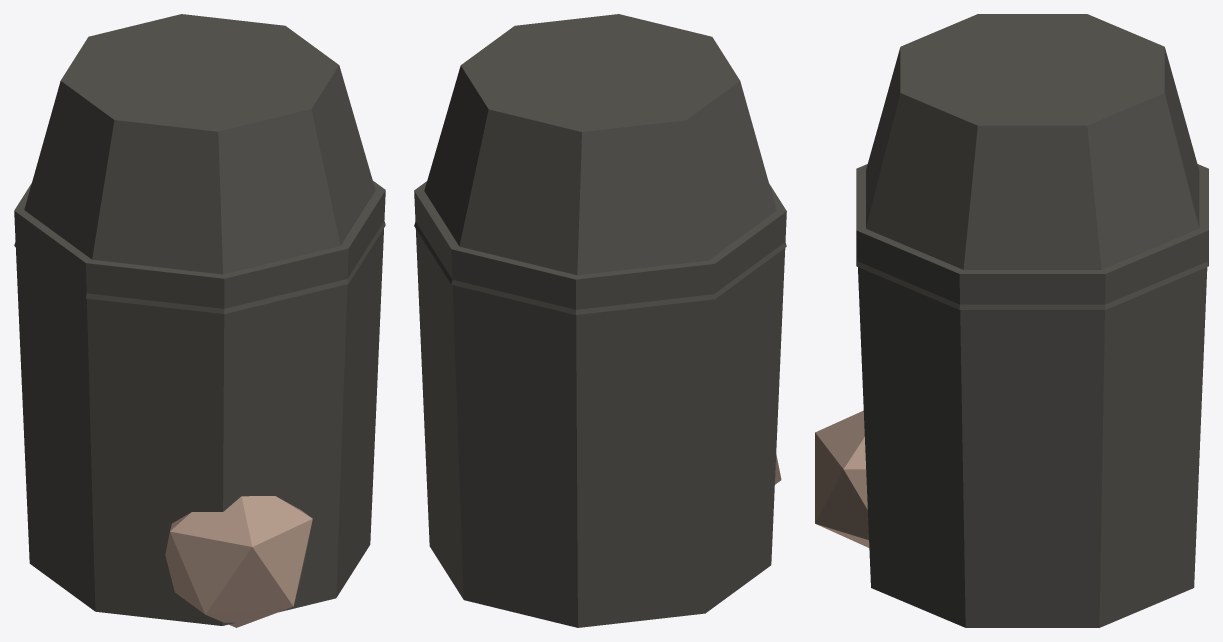
Rendered from inf_v2_walker_upper_leg_l.fbx.
3 renders of one model, left to right at view 1: azimuth 30°, elevation 25°; view 2: azimuth 150°, elevation 25°; view 3: azimuth 270°, elevation 25°, orthographic.
Parts seen in each view (by area): view 1: inf_v2_walker_upper_leg_l; view 2: inf_v2_walker_upper_leg_l; view 3: inf_v2_walker_upper_leg_l.
Part boxes in pixels (box(x1,y1,x2,y2)): inf_v2_walker_upper_leg_l: box(14, 14, 385, 627); inf_v2_walker_upper_leg_l: box(414, 14, 786, 627); inf_v2_walker_upper_leg_l: box(815, 14, 1208, 627).
Size of the model in its own units: 88.69 by 140 by 99.06.
